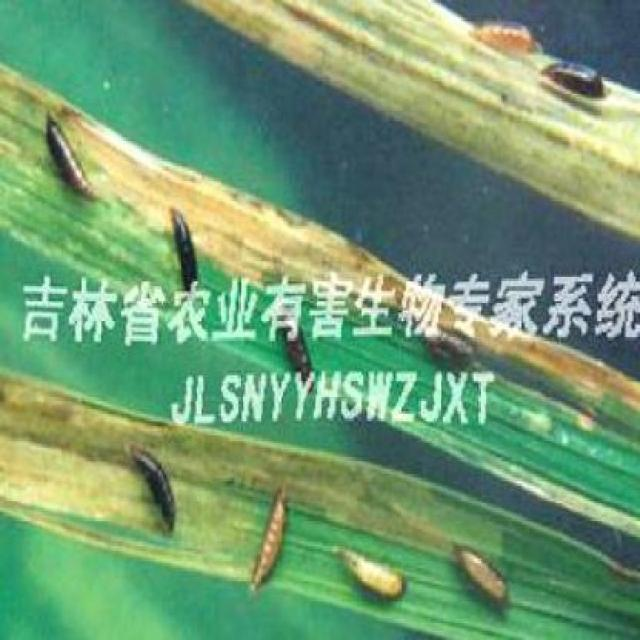whorl-maggot: (243, 472, 297, 606), (444, 527, 516, 615), (125, 434, 182, 544), (39, 107, 98, 211), (338, 538, 416, 616), (532, 42, 619, 109), (465, 15, 544, 60), (163, 202, 202, 278)
